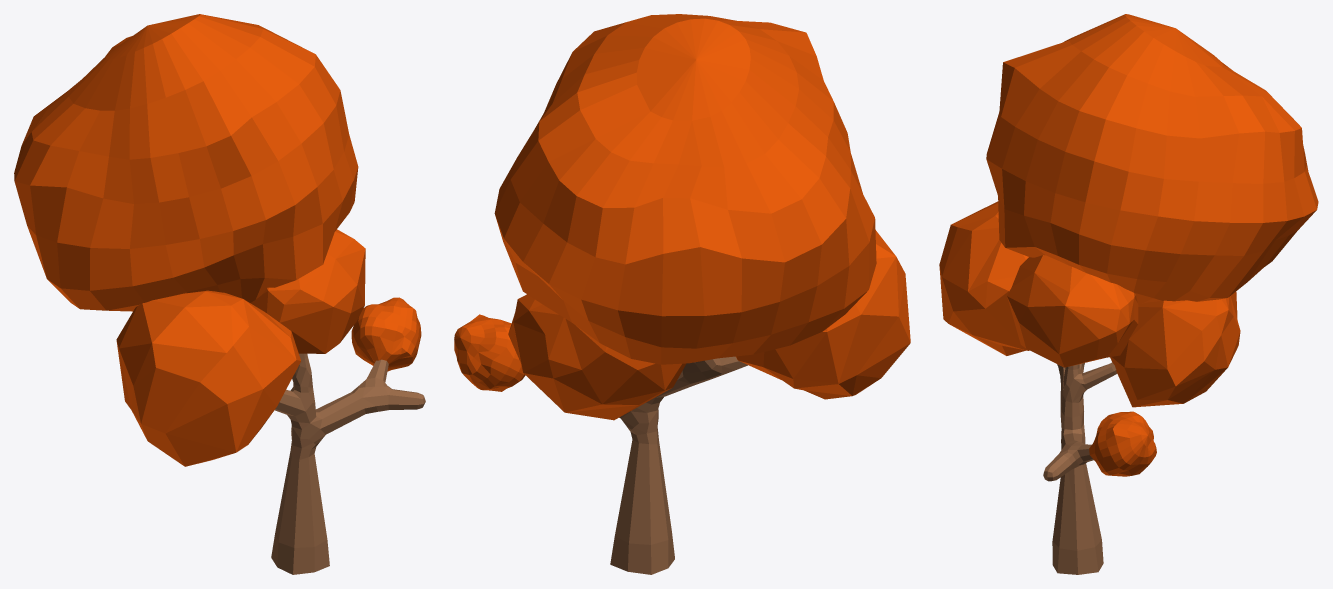
The model's file is tree-autumn-complete-9-012.glb.
3 views of the same model, side by side, from view 1: azimuth 30°, elevation 25°; view 2: azimuth 150°, elevation 25°; view 3: azimuth 270°, elevation 25° (orthographic). The views are drawn at different scales.
Parts seen in each view (by area): view 1: TREE 9.003_405, TREE 9.002_406; view 2: TREE 9.003_405, TREE 9.002_406; view 3: TREE 9.003_405, TREE 9.002_406.
Boxes of the visible parts, x1=… form: TREE 9.003_405: x1=14, y1=14, x2=421, y2=466; TREE 9.002_406: x1=271, y1=353, x2=425, y2=574; TREE 9.003_405: x1=454, y1=14, x2=910, y2=420; TREE 9.002_406: x1=610, y1=356, x2=747, y2=574; TREE 9.003_405: x1=939, y1=14, x2=1318, y2=476; TREE 9.002_406: x1=1043, y1=362, x2=1116, y2=574.
Size of the model in its own units: 1.3 by 1.8 by 1.22.
